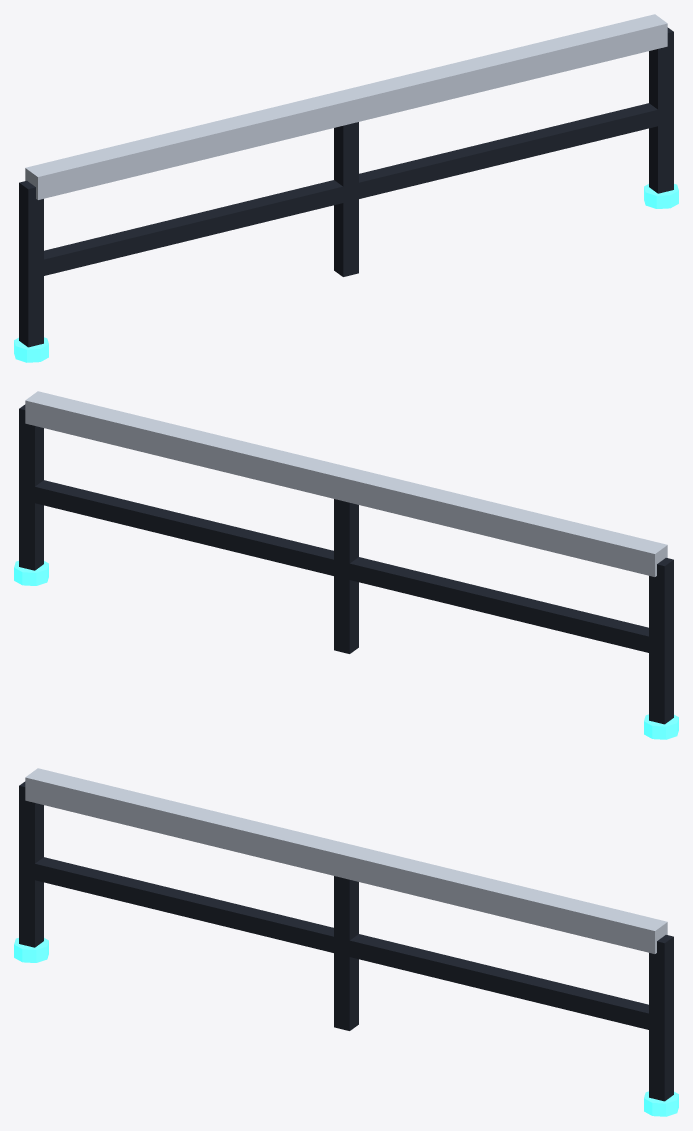
Rendered from mod_barandilla.fbx.
The picture shows the model from 3 angles, top to bottom: view 1: azimuth 30°, elevation 25°; view 2: azimuth 150°, elevation 25°; view 3: azimuth 330°, elevation 25°; orthographic projection.
Parts seen in each view (by area): view 1: Barandilla, Barandilla_Conectores; view 2: Barandilla, Barandilla_Conectores; view 3: Barandilla, Barandilla_Conectores.
Part boxes in pixels (box(x1,y1,x2,y2)): Barandilla: box(19, 14, 673, 347); Barandilla_Conectores: box(14, 184, 678, 362); Barandilla: box(19, 391, 673, 724); Barandilla_Conectores: box(14, 561, 678, 739); Barandilla: box(19, 768, 673, 1101); Barandilla_Conectores: box(14, 938, 678, 1116).
Bounding box in the file's own units: 1.18 × 0.3108 × 0.056.
